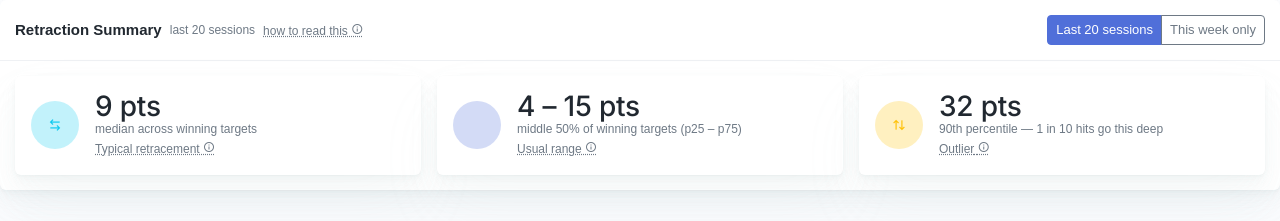
it: WeeklyRetractionSummary › toggles to the "this week only" scope when weekBucketStats is provided
Click the button "This week only" at coordinates (1213, 30), box [1161,15,1265,44]
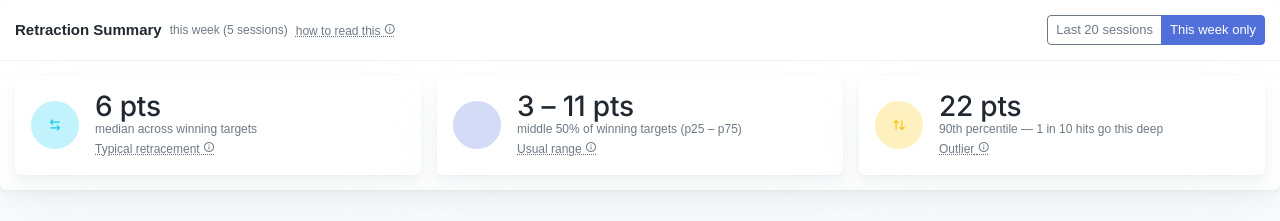
Now the heading "6 pts" is shown, box [95,88,161,122]
Now the heading "3 – 11 pts" is shown, box [517,88,634,122]
Now the heading "22 pts" is shown, box [939,88,1022,122]
